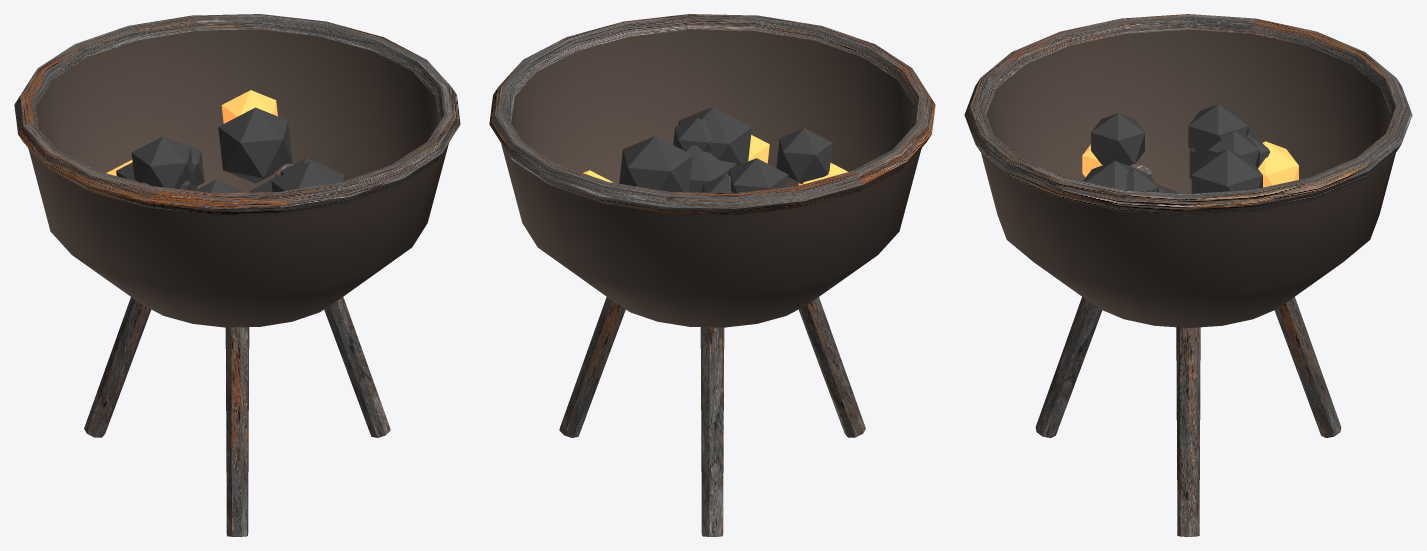
Rendered from street-brazier-v01.glb.
3 renders of one model, left to right at view 1: azimuth 30°, elevation 25°; view 2: azimuth 150°, elevation 25°; view 3: azimuth 270°, elevation 25°, orthographic.
Visible parts, largest first — view 1: street-brazier; view 2: street-brazier; view 3: street-brazier.
Boxes of the visible parts, <box> form: street-brazier: <box>14,14,460,536</box>; street-brazier: <box>489,14,935,536</box>; street-brazier: <box>964,14,1412,536</box>.
Bounding box in the file's own units: 1.22 × 1.09 × 1.22.
Materials: 4 (2 with a texture image).
